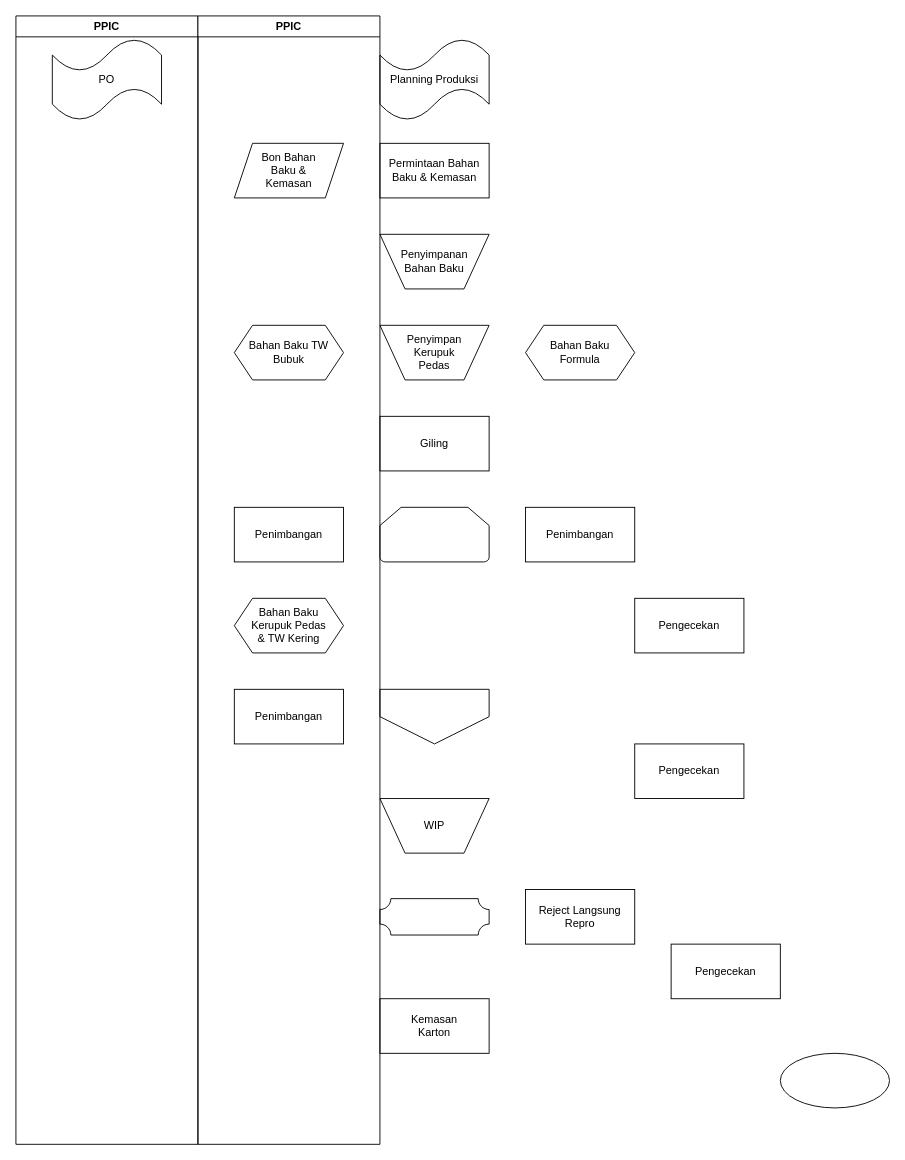
Image size: 905x1160. Some labels were removed from this diagram. Each missing label, with the centre of its shape:
"Filling Sachet" belongs at (x=434, y=916).
"Finished Goods" belongs at (x=834, y=1080).
"Super Mixer" belongs at (x=434, y=534).
"Vertikal Blender" belongs at (x=434, y=716).
